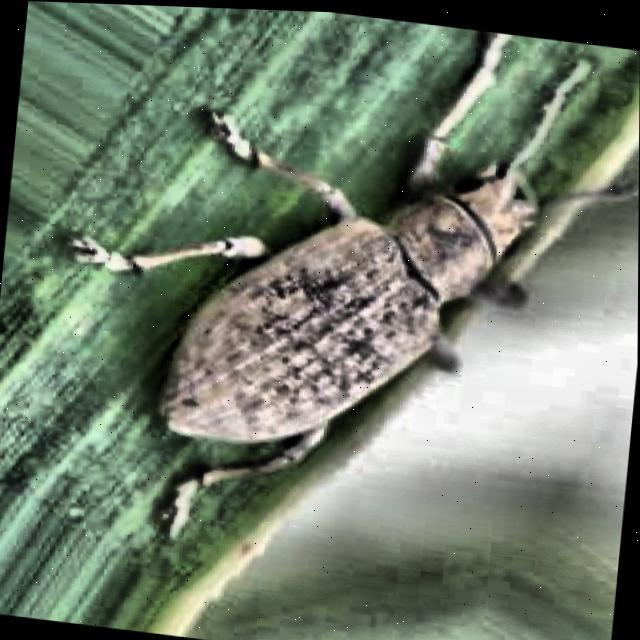Stink bug: (43, 40, 640, 529)
